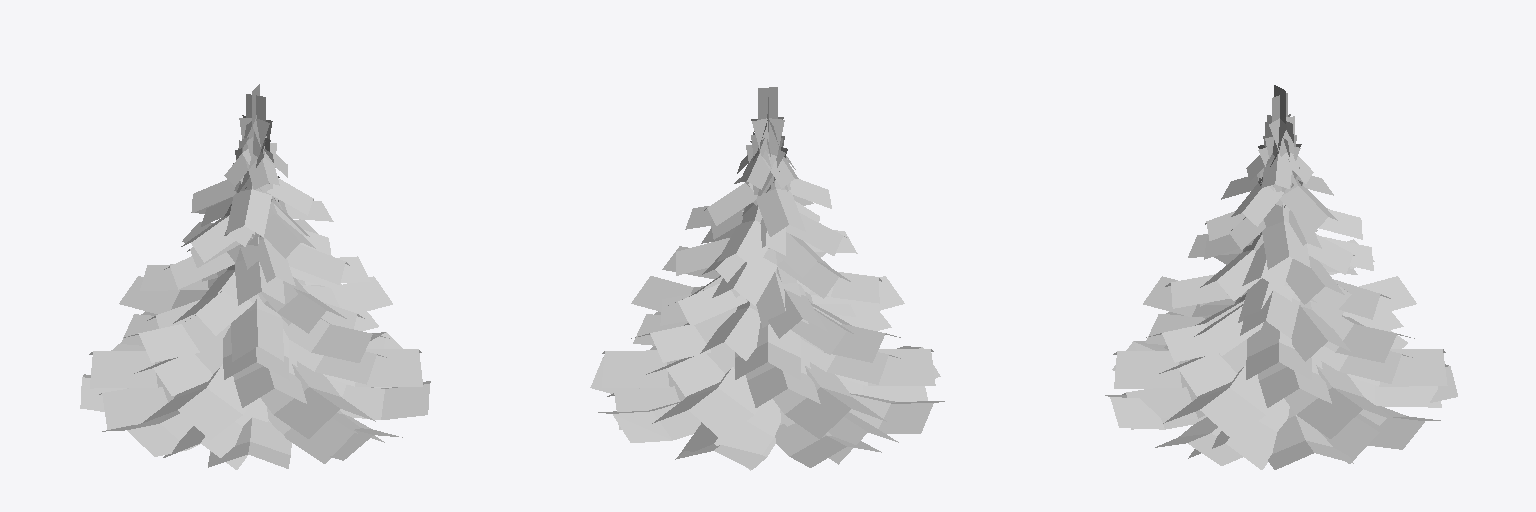
File: pine.obj
3 views of the same model, side by side, from view 1: azimuth 30°, elevation 25°; view 2: azimuth 150°, elevation 25°; view 3: azimuth 270°, elevation 25° (orthographic).
Visible parts, largest first — view 1: pine_tree; view 2: pine_tree; view 3: pine_tree.
Part boxes in pixels (bbox=[...]): pine_tree: bbox=[80, 84, 430, 469]; pine_tree: bbox=[590, 87, 944, 470]; pine_tree: bbox=[1105, 85, 1457, 469].
Bounding box in the file's own units: 19 × 19.79 × 19.01.